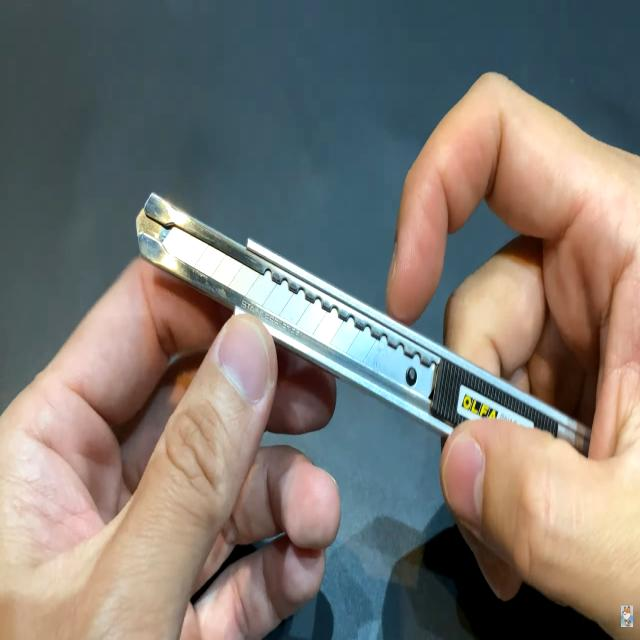cutter: (93, 6, 640, 597)
